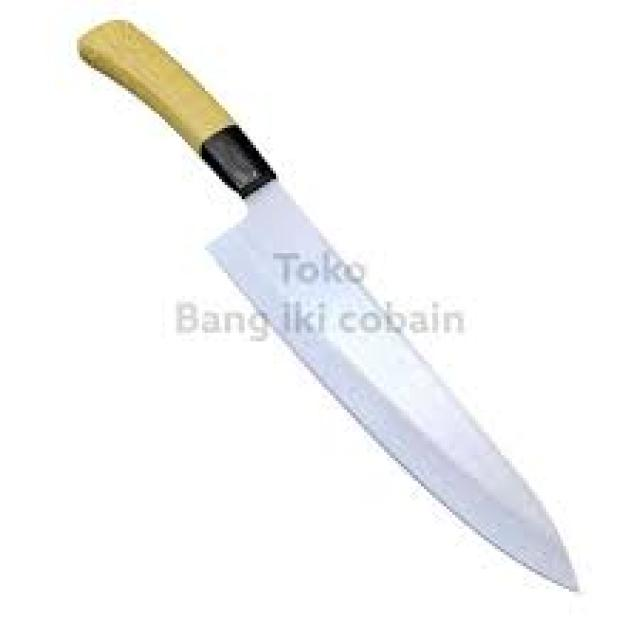Knife: (80, 20, 577, 592)
